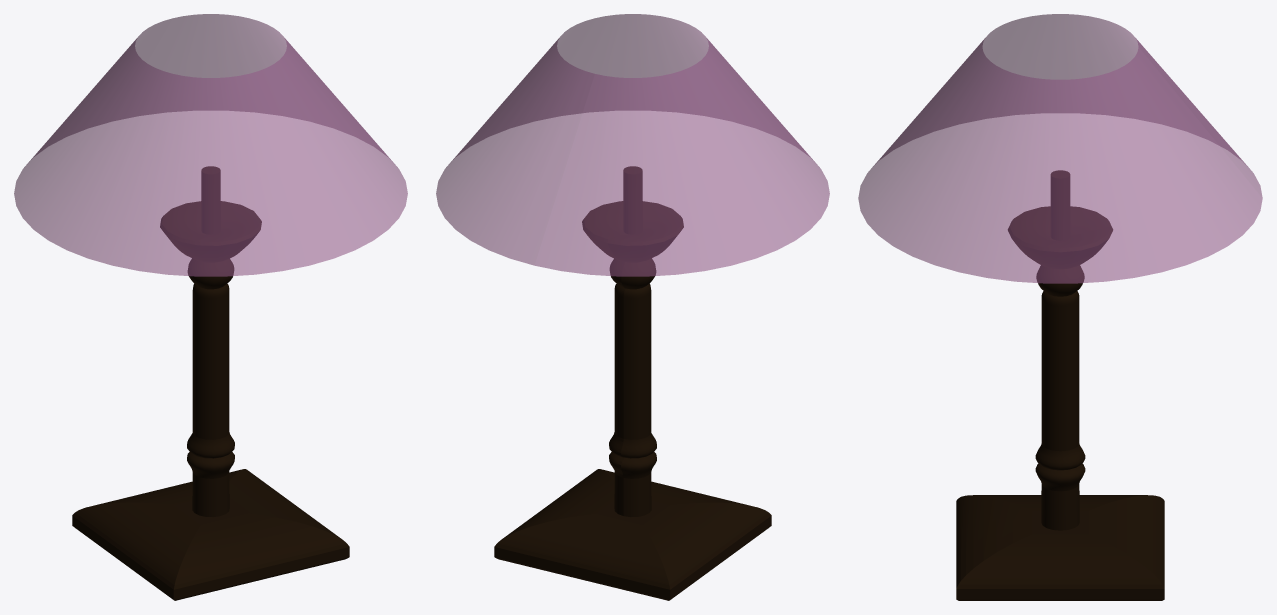
Rendered from lampara.FBX.
3 renders of one model, left to right at view 1: azimuth 30°, elevation 25°; view 2: azimuth 150°, elevation 25°; view 3: azimuth 270°, elevation 25°, orthographic. The views are drawn at different scales.
Parts seen in each view (by area): view 1: Rectangle2; view 2: Rectangle2; view 3: Rectangle2.
Part boxes in pixels (x1,y1,x2,y2): Rectangle2: [14, 14, 407, 600]; Rectangle2: [436, 14, 829, 600]; Rectangle2: [858, 14, 1262, 600].
Bounding box in the file's own units: 12.42 × 17.37 × 12.46.
